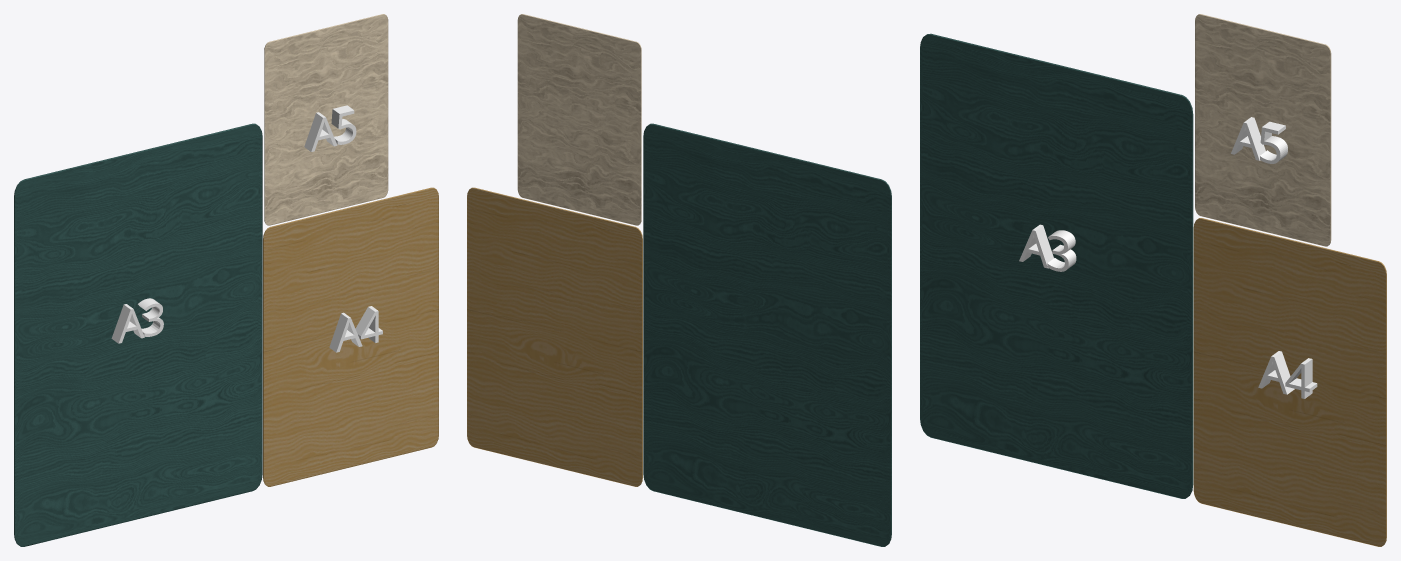
The model's file is PaperSize.gltf.
3 renders of one model, left to right at view 1: azimuth 30°, elevation 25°; view 2: azimuth 150°, elevation 25°; view 3: azimuth 330°, elevation 25°, orthographic. The views are drawn at different scales.
Visible parts, largest first — view 1: Box 1, Box, Box 2, 3D Text 1 - A, 3D Text - A, 3D Text 2 - A, 3D Text 2 - 5, 3D Text 1 - 3, 3D Text - 4; view 2: Box 1, Box, Box 2; view 3: Box 1, Box, Box 2, 3D Text 2 - 5, 3D Text 1 - 3, 3D Text 1 - A, 3D Text 2 - A, 3D Text - A, 3D Text - 4.
Part boxes in pixels (x1,y1,x2,y2): Box 1: (14,123,262,546); Box: (263,187,438,486); Box 2: (264,14,388,225); 3D Text 1 - A: (111,304,144,343); 3D Text - A: (329,312,362,352); 3D Text 2 - A: (304,112,337,151); 3D Text 2 - 5: (331,105,356,144); 3D Text 1 - 3: (138,298,163,336); 3D Text - 4: (355,306,382,342); Box 1: (643,123,891,546); Box: (467,187,642,486); Box 2: (517,14,641,225); Box 1: (920,33,1193,498); Box: (1193,218,1386,546); Box 2: (1195,14,1331,246); 3D Text 2 - 5: (1260,121,1287,163); 3D Text 1 - 3: (1047,230,1076,271); 3D Text 1 - A: (1019,224,1053,268); 3D Text 2 - A: (1231,117,1265,160); 3D Text - A: (1258,351,1294,394); 3D Text - 4: (1285,358,1317,398).
Bounding box in the file's own units: 0.5081 × 0.509 × 0.0155.
Materials: 6 (3 with a texture image).
